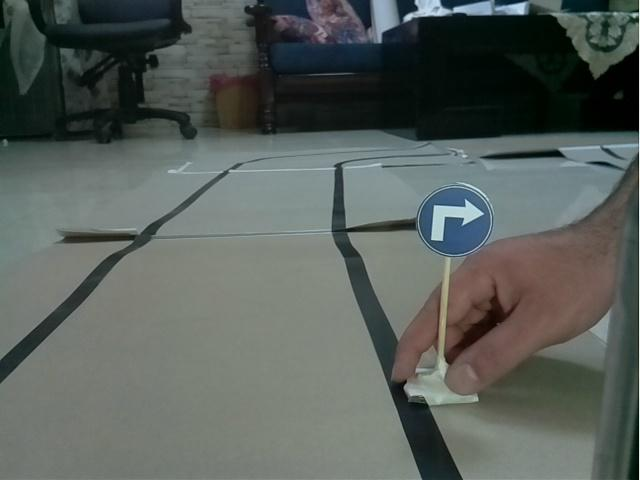turn: (414, 182, 500, 255)
